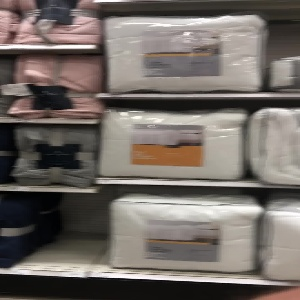void: (19, 188, 109, 274)
